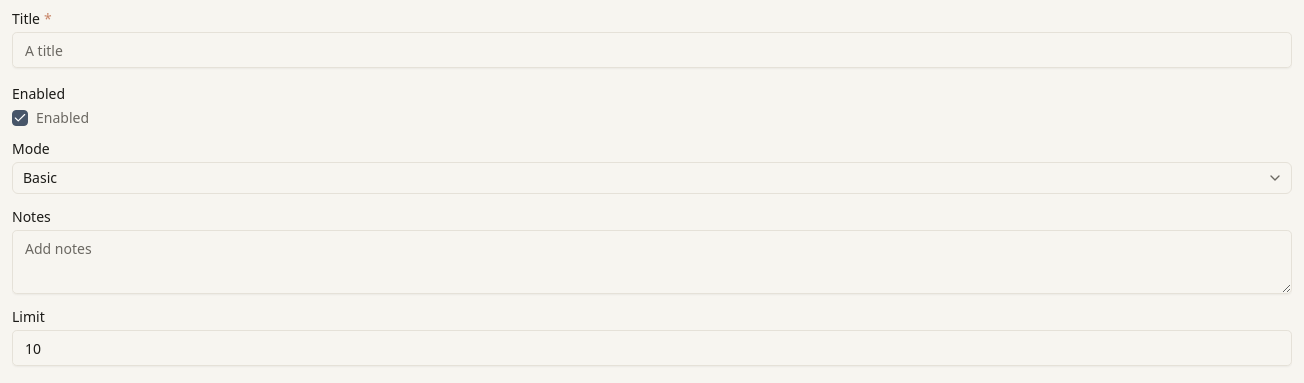
DynamicForm › renders the configured field types and options
Check: the field with placeholder "A title" is shown, box [12, 32, 1292, 68]
Check: the checkbox named "Enabled" is checked, box [12, 110, 28, 126]
Step 1. Click the dropdown → (40, 178), box [12, 162, 1292, 194]
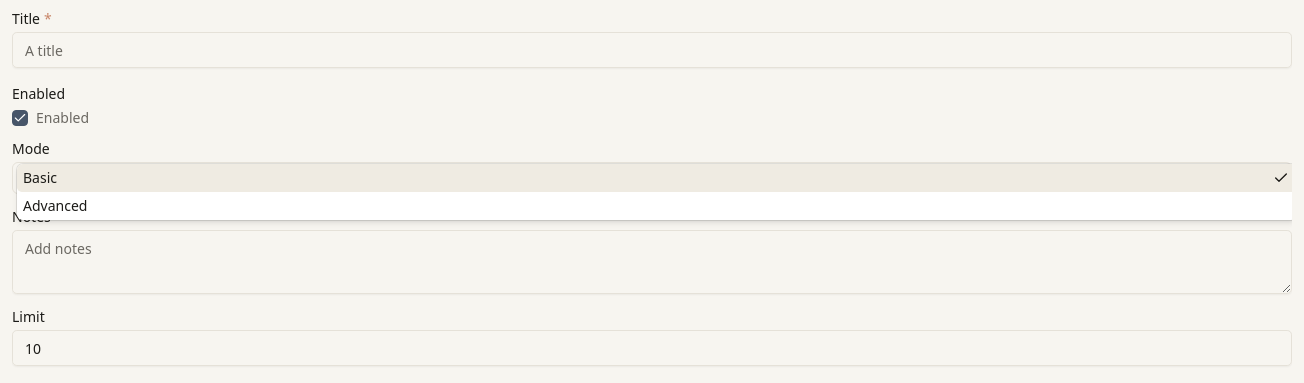
Check: the text box with placeholder "Add notes" is shown, box [12, 230, 1292, 294]
Check: the option "Advanced" is shown, box [23, 196, 87, 215]
